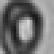correct: (6, 3, 51, 54)
